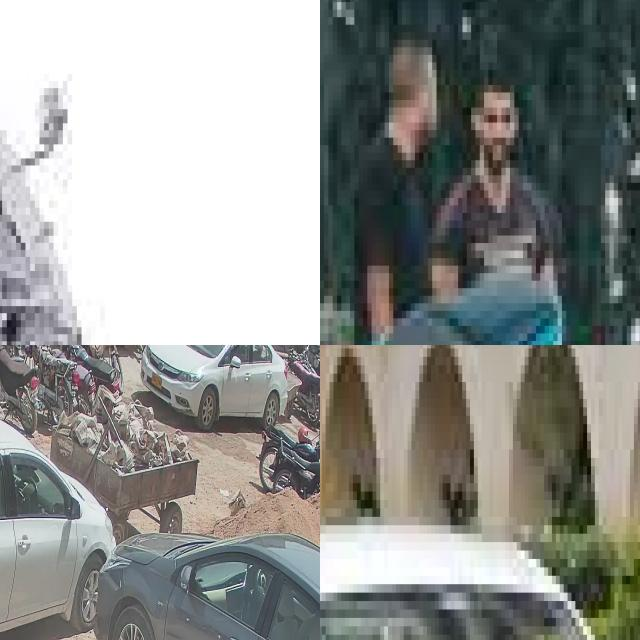bike: (0, 39, 296, 345), (320, 0, 575, 345), (258, 420, 320, 496), (23, 345, 79, 424), (0, 345, 43, 434), (47, 345, 95, 416), (268, 436, 320, 499), (60, 345, 119, 392), (286, 347, 320, 425), (72, 345, 123, 394)
car: (320, 483, 640, 640), (0, 403, 113, 640), (93, 532, 320, 640), (141, 345, 287, 428)
